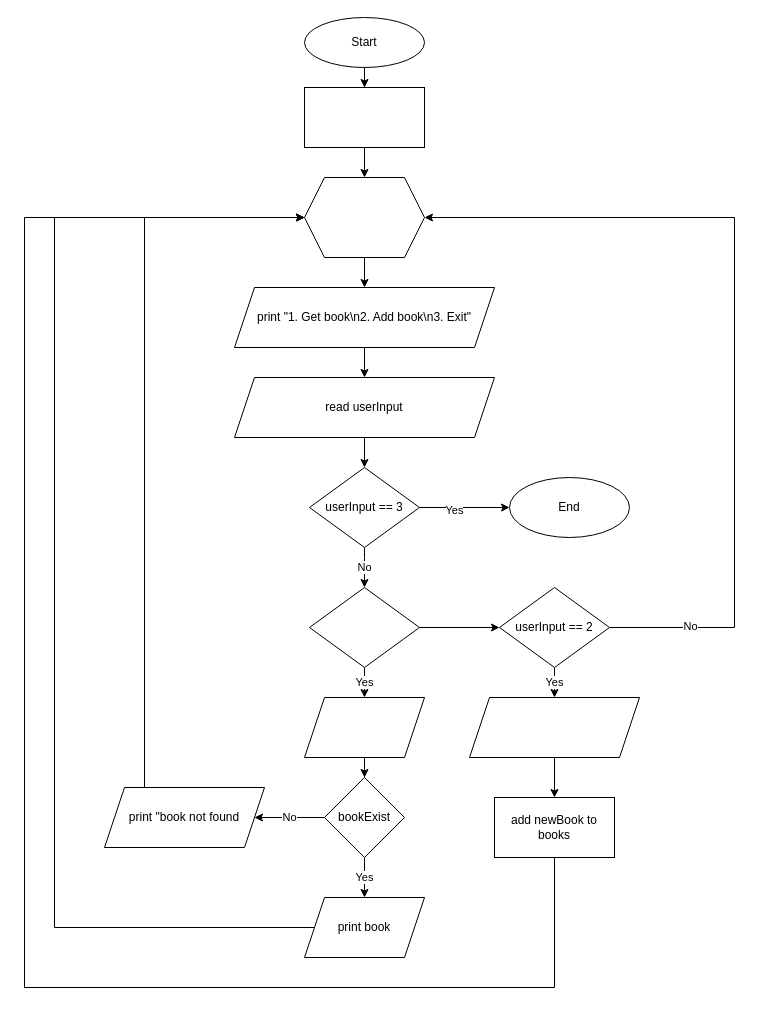
Image size: 760x1013. Some labels were removed from this diagram. The shapes that lost their labels are listed below. From the top down, each one's centre as x and y in pixels, then its label:
At (x=364, y=117): "init books".
At (x=364, y=217): "true".
At (x=364, y=627): "userInput == 1".
At (x=364, y=727): "read bookCode".
At (x=554, y=727): "read newBookCode, newBook.title, newBook.Author".
